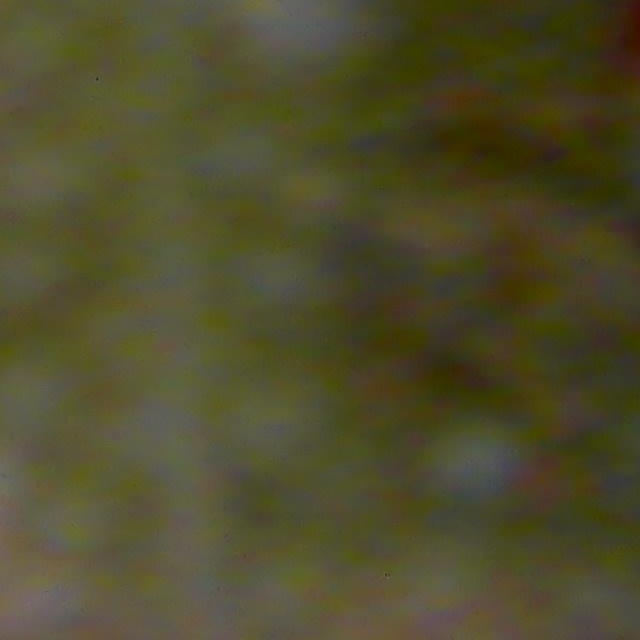SeaGrape: (214, 375, 335, 488), (0, 333, 102, 466), (0, 0, 123, 101), (256, 150, 368, 250), (0, 229, 110, 321), (426, 413, 526, 505), (235, 233, 327, 321), (248, 550, 348, 629), (51, 475, 126, 567)
